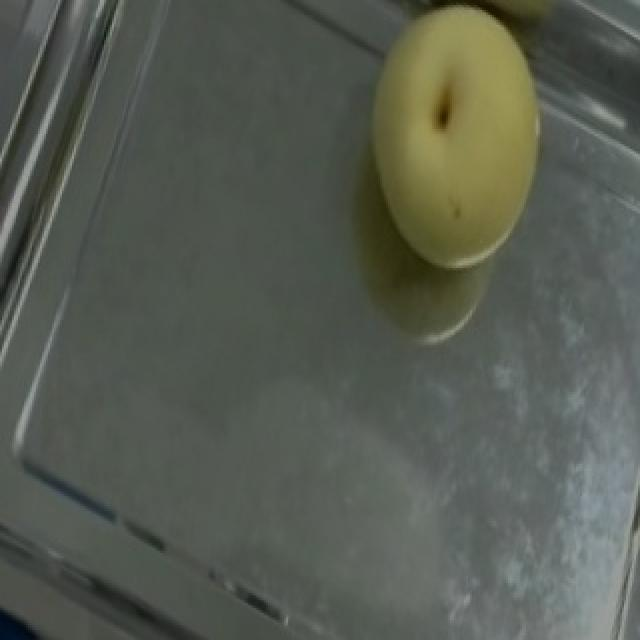Fruit: (318, 0, 576, 303)
